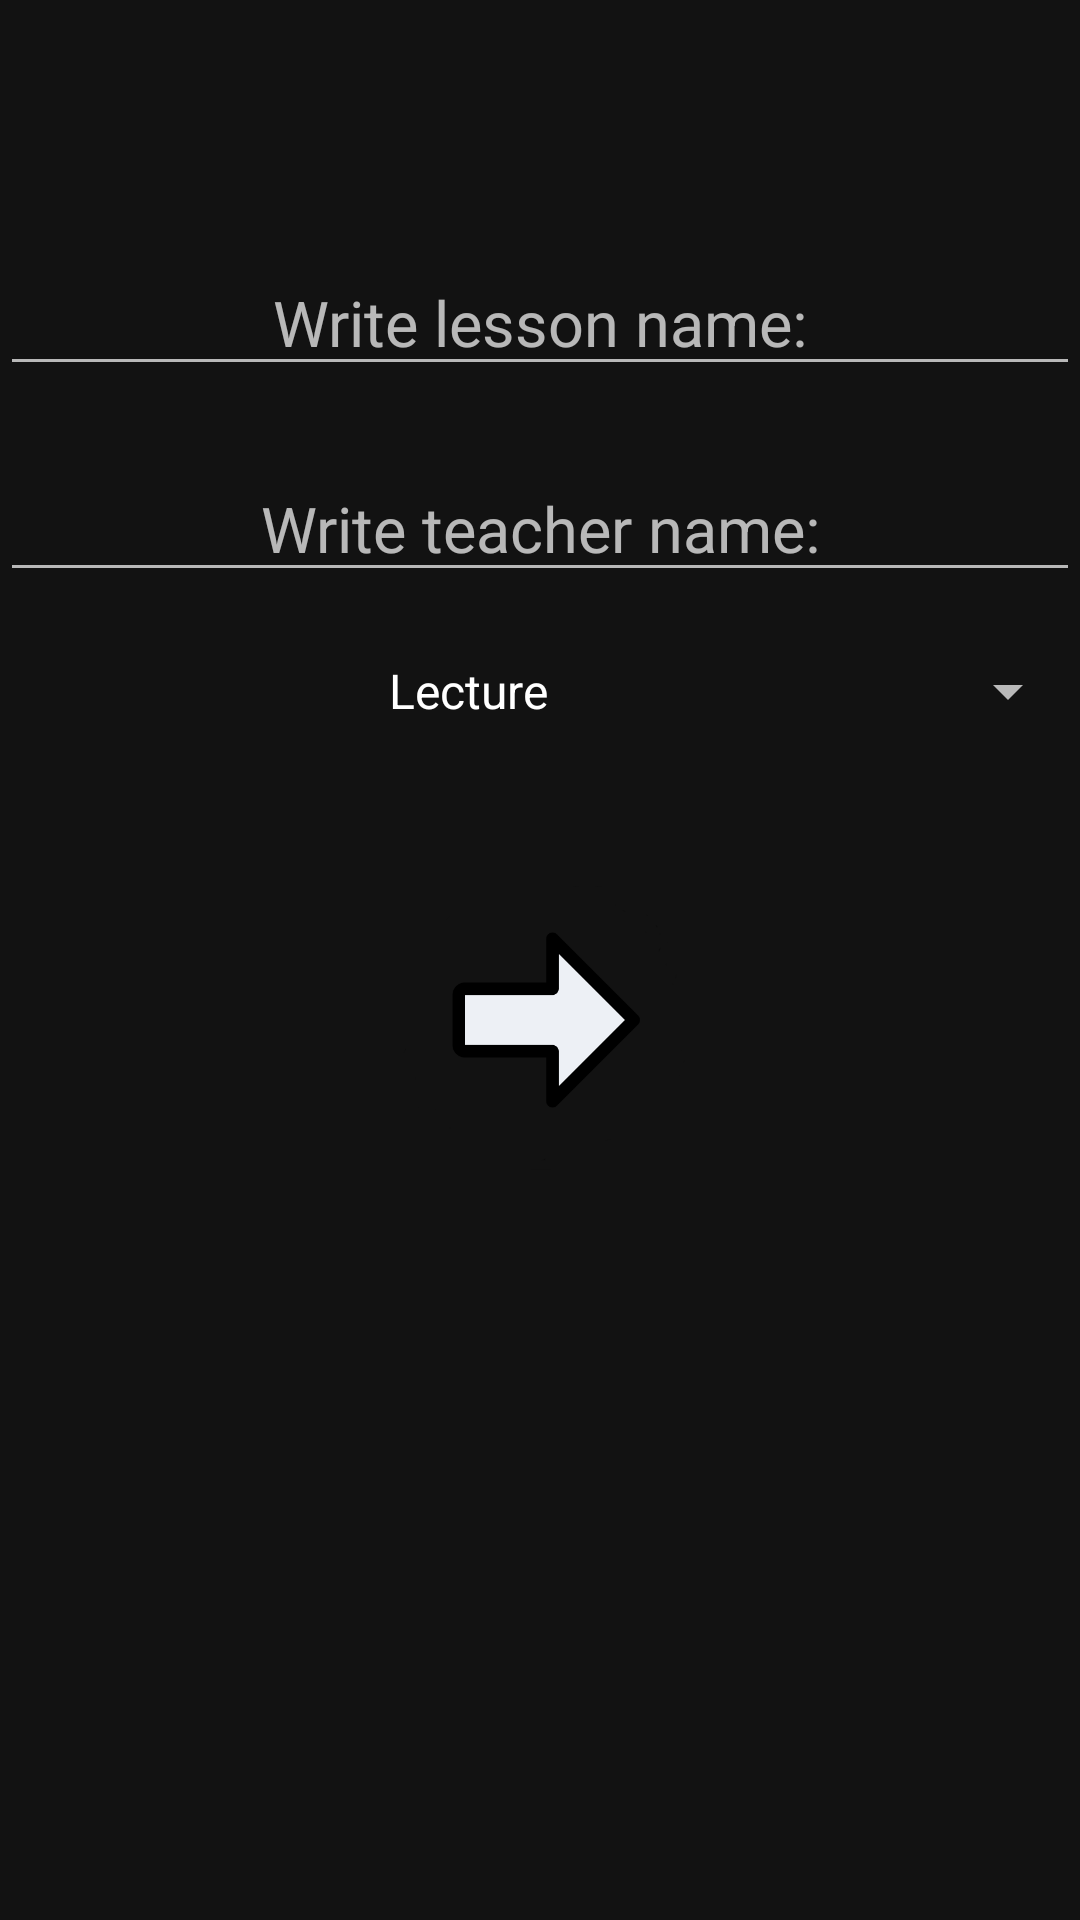

Icons on this 1080*1920 Android screen, each with its box as (x1, y1, x2, y2):
next: (465, 954, 625, 1086)
